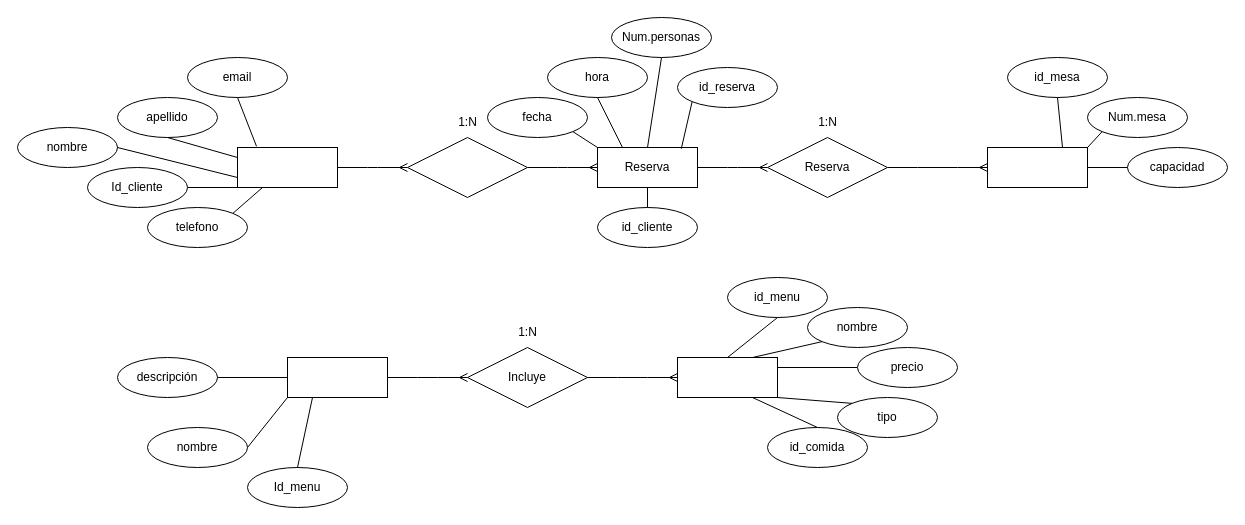
Image size: 1245x525. Some labels were removed from this diagram. Each missing label, with the centre of its shape:
"Cliente" goes at [287,167].
"Comida" goes at [727,377].
"Menú" goes at [337,377].
"Mesa" goes at [1037,167].
"Realiza" goes at [467,167].
